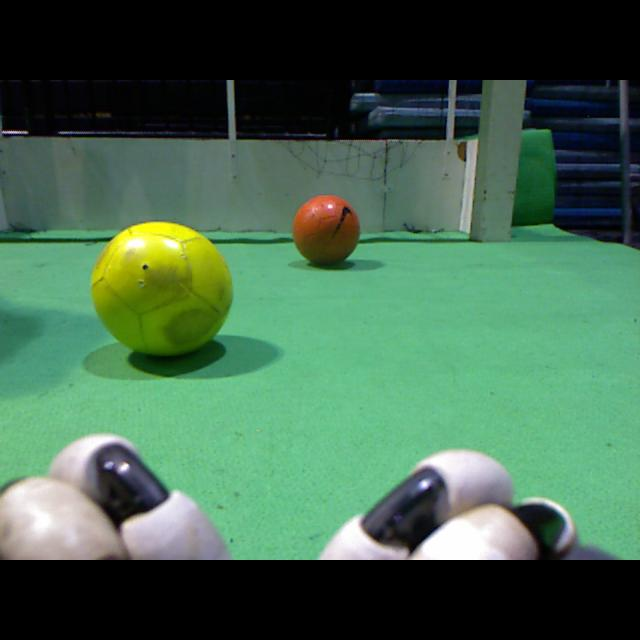ball: (90, 222, 233, 356), (293, 196, 360, 264)
goal: (480, 80, 526, 242)
